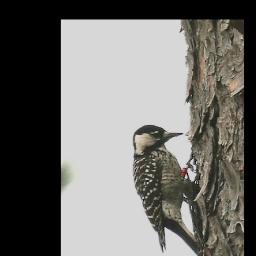Woodpecker: (133, 124, 203, 256)
